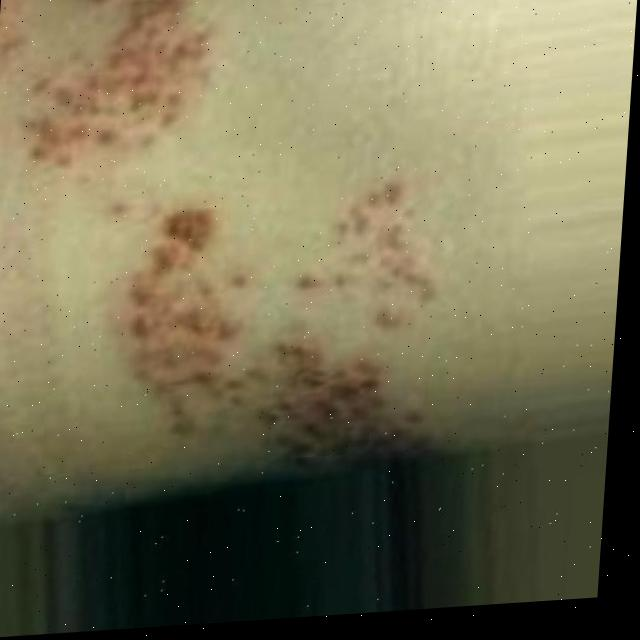Shingles: (101, 169, 466, 508), (0, 0, 221, 189)
